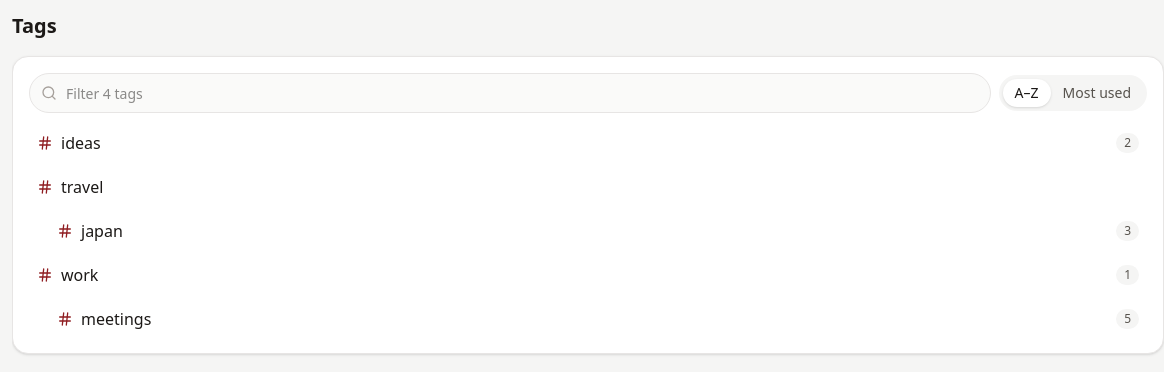
it: tags › lists every tag with its count, links to its notes, and filters
In the search field named "Filter tags": x=510, y=93 x1=29 y1=73 x2=991 y2=113, type "#MEET"
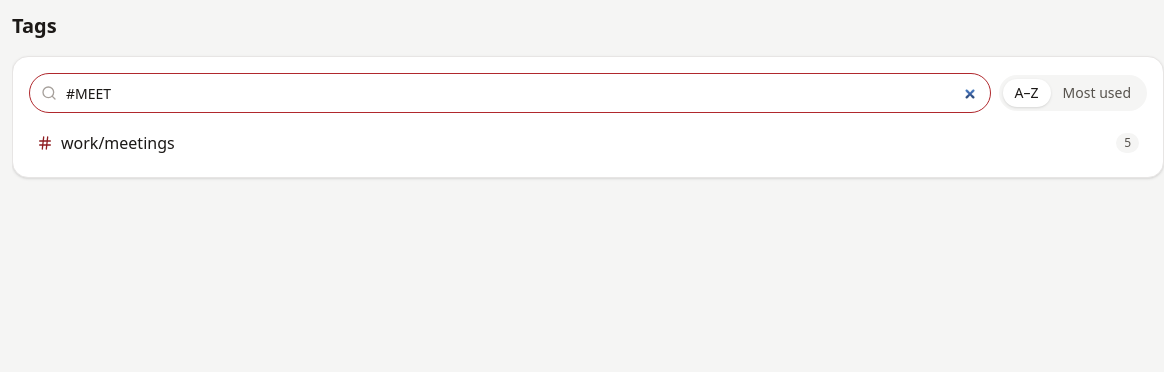
Replace the text in the search field named "Filter tags" with "zzz": x=510, y=93 x1=29 y1=73 x2=991 y2=113
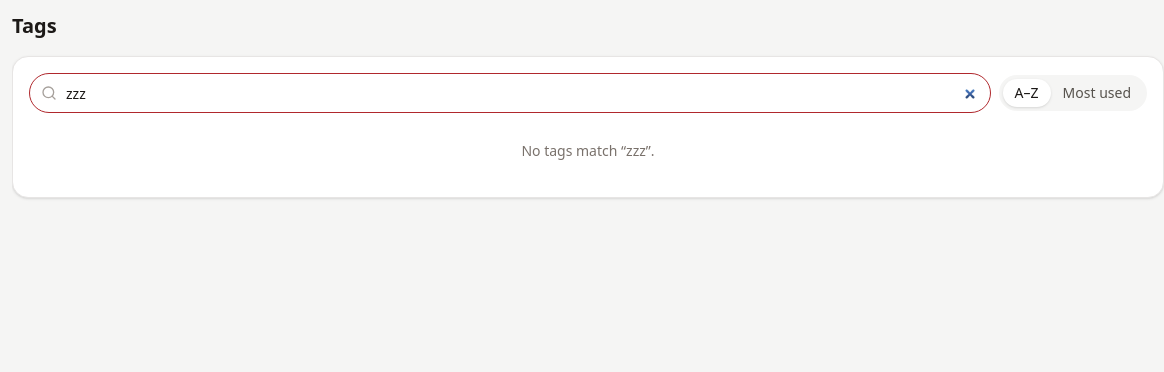
Expected: the text "No tags match “zzz”." is shown, x1=521 y1=141 x2=655 y2=160
